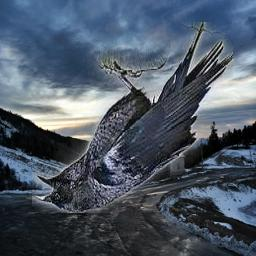Crow: (33, 23, 234, 214)
